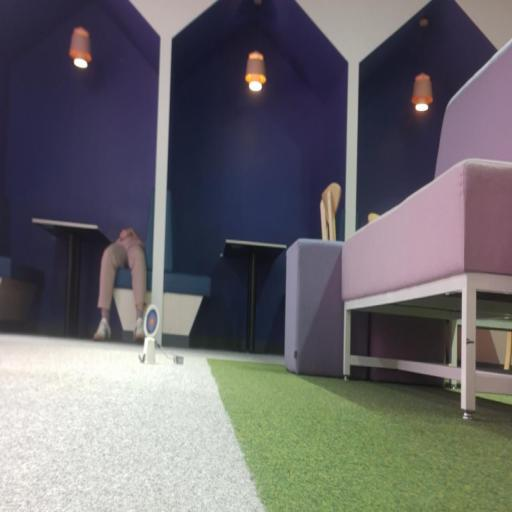target: (144, 306, 159, 338)
